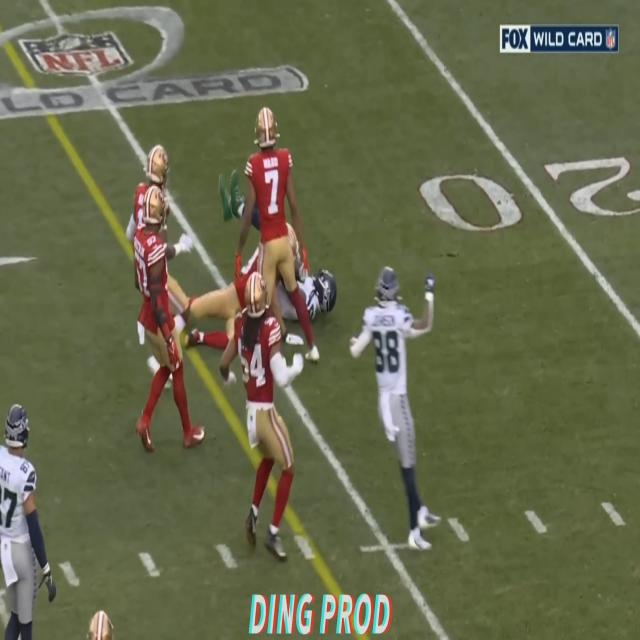players: (235, 94, 316, 417), (355, 248, 436, 569), (133, 168, 205, 472), (238, 267, 298, 575), (0, 394, 55, 640), (76, 606, 124, 640)
